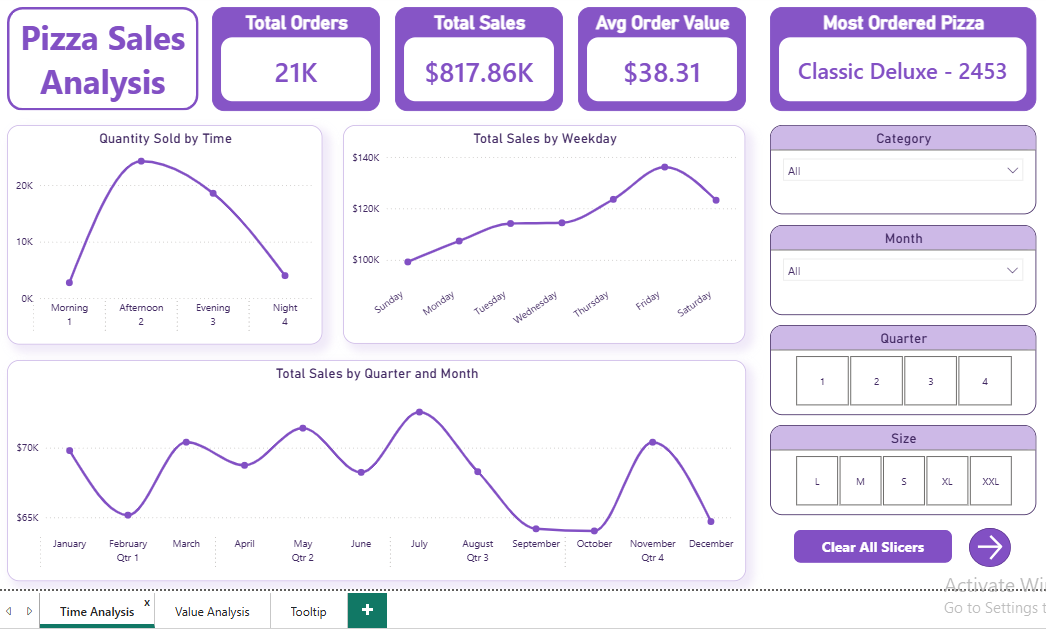

The dashboard page shown, as its layout file describes it:
{"tool":"powerbi","page":{"name":"Time Analysis","canvas":[1280,720],"ordinal":0},"visuals":[{"type":"cardVisual","title":"Total Orders","fields":{"Data":["orders.total_orders"]},"box":[260.1,9.6,205.1,126.6],"z":0},{"type":"cardVisual","title":"Total Sales","fields":{"Data":["orders.total_sales"]},"box":[483.1,9.6,205.1,126.6],"z":1000},{"type":"cardVisual","title":"Avg Order Value","fields":{"Data":["orders.avg_order_value"]},"box":[706.1,9.6,205.1,126.6],"z":2000},{"type":"cardVisual","title":"Most Ordered Pizza","fields":{"Data":["orders.Most Ordered Pizza Card"]},"box":[941.1,10,324.6,126.7],"z":3000},{"type":"lineChart","title":"Quantity Sold by Time","fields":{"Category":["orders.Time Category Sort","orders.Time Category"],"Y":["Sum(order_details.quantity)"]},"box":[9.6,154.2,385.4,268.4],"z":4000},{"type":"lineChart","title":"Total Sales by Weekday","fields":{"Category":["orders.Weekday"],"Y":["orders.total_sales"]},"box":[419.8,154.2,491.4,267],"z":5000},{"type":"lineChart","title":"Total Sales by Quarter and Month","fields":{"Y":["orders.total_sales"],"Category":["orders.date.Variation.Date Hierarchy.Quarter","orders.date.Variation.Date Hierarchy.Month"]},"box":[9.6,440.4,901.5,269.8],"z":6000},{"type":"slicer","title":"Category","fields":{"Values":["Pizza_types.category"]},"box":[941.4,154.2,324.8,108.7],"z":7000},{"type":"slicer","title":"Month","fields":{"Values":["orders.Month Name"]},"box":[941.1,275.6,324.6,109.6],"z":8000},{"type":"slicer","title":"Quarter","fields":{"Values":["orders.Quarter"]},"box":[941.1,397.9,324.6,109.6],"z":9000},{"type":"slicer","title":"Size","fields":{"Values":["Pizzas.size"]},"box":[941.4,520.3,324.8,110.1],"z":10000},{"type":"shape","box":[1183.7,645.6,51.3,47.6],"z":11000},{"type":"actionButton","box":[1188.6,649.2,57.4,40.3],"z":12000},{"type":"actionButton","title":"Clear All Slicers","box":[970.3,648.3,192.7,39.9],"z":13000},{"type":"actionButton","box":[9.5,9.5,233.7,126.3],"z":14000}]}

Visuals, with their boxes on the page's 1280x720 design canvas (x1, y1, x2, y2). These are canvas units, not pixel positions in the 1046x629 screenshot, which may show the page scaled, cropped or inside an application window:
"Total Orders" cardVisual: pyautogui.locateOnScreen(260, 10, 465, 136)
"Total Sales" cardVisual: pyautogui.locateOnScreen(483, 10, 688, 136)
"Avg Order Value" cardVisual: pyautogui.locateOnScreen(706, 10, 911, 136)
"Most Ordered Pizza" cardVisual: pyautogui.locateOnScreen(941, 10, 1266, 137)
"Quantity Sold by Time" lineChart: pyautogui.locateOnScreen(10, 154, 395, 423)
"Total Sales by Weekday" lineChart: pyautogui.locateOnScreen(420, 154, 911, 421)
"Total Sales by Quarter and Month" lineChart: pyautogui.locateOnScreen(10, 440, 911, 710)
"Category" slicer: pyautogui.locateOnScreen(941, 154, 1266, 263)
"Month" slicer: pyautogui.locateOnScreen(941, 276, 1266, 385)
"Quarter" slicer: pyautogui.locateOnScreen(941, 398, 1266, 508)
"Size" slicer: pyautogui.locateOnScreen(941, 520, 1266, 630)
shape: pyautogui.locateOnScreen(1184, 646, 1235, 693)
actionButton: pyautogui.locateOnScreen(1189, 649, 1246, 690)
"Clear All Slicers" actionButton: pyautogui.locateOnScreen(970, 648, 1163, 688)
actionButton: pyautogui.locateOnScreen(10, 10, 243, 136)
